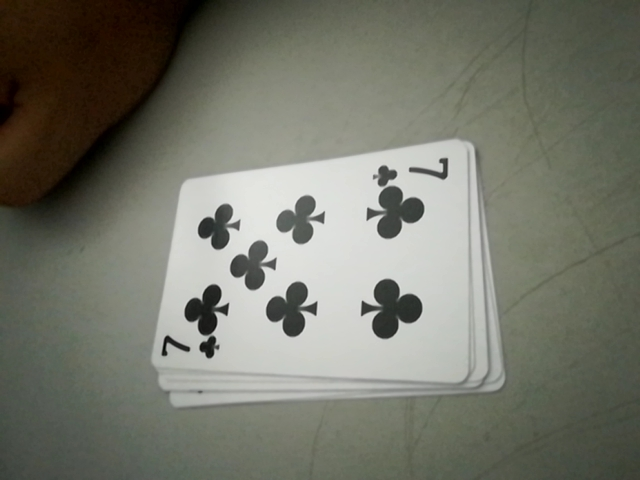mh 7: (372, 153, 458, 190), (156, 333, 222, 367)
